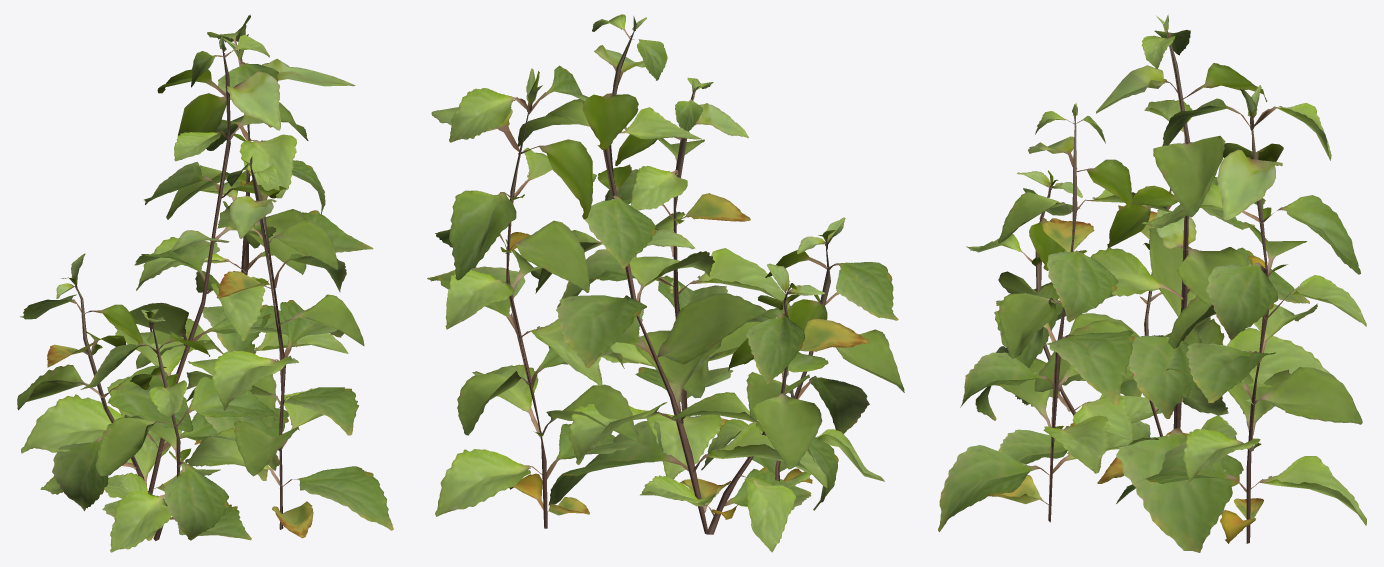
The model's file is ph_shrub_5.glb.
The picture shows the model from 3 angles, left to right: view 1: azimuth 30°, elevation 25°; view 2: azimuth 150°, elevation 25°; view 3: azimuth 270°, elevation 25°; orthographic projection. The views are drawn at different scales.
Visible parts, largest first — view 1: ph_shrub_5_lod1; view 2: ph_shrub_5_lod1; view 3: ph_shrub_5_lod1.
Part boxes in pixels (x1,y1,x2,y2): ph_shrub_5_lod1: (17,14,393,552); ph_shrub_5_lod1: (427,14,904,552); ph_shrub_5_lod1: (938,14,1366,552).
Size of the model in its own units: 0.3063 by 0.3633 by 0.2827.
Materials: 1 (1 with a texture image).
